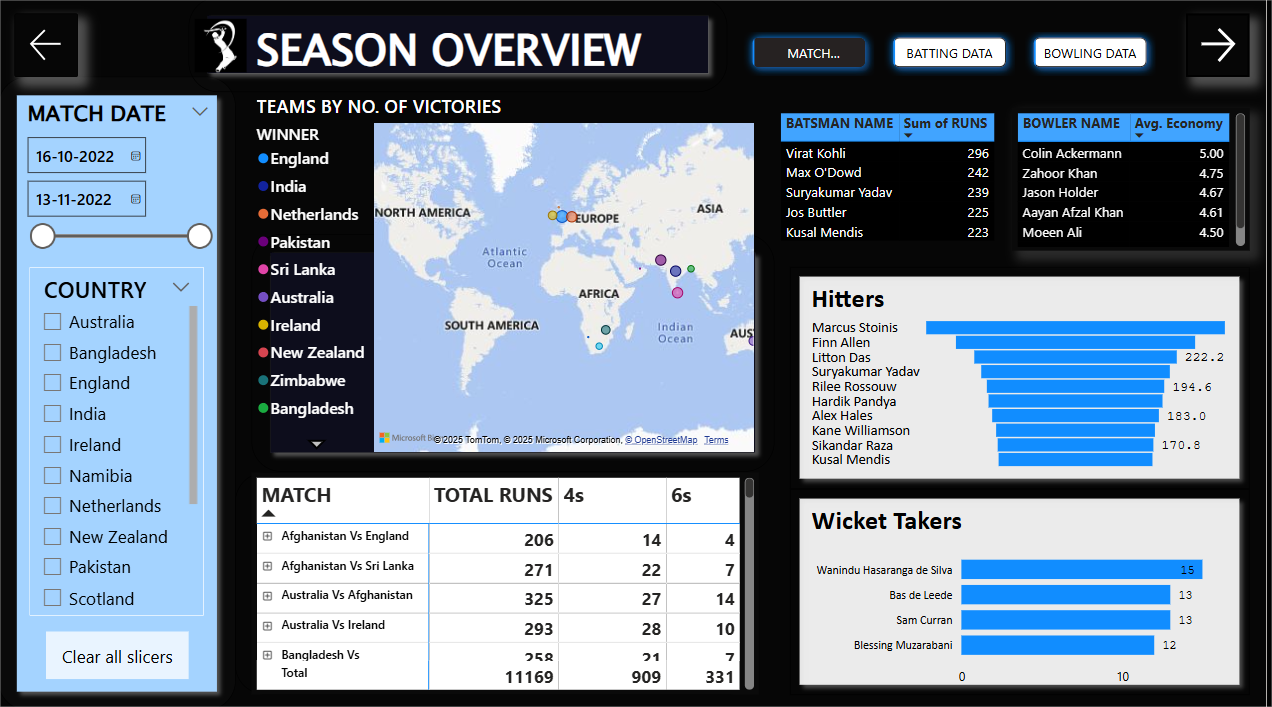

The page's visual inventory and layout, read from the dashboard file:
{"tool":"powerbi","page":{"name":"MATCH OVERVIEW","canvas":[1280,720],"ordinal":0},"visuals":[{"type":"shape","box":[0,80,240,640],"z":0},{"type":"shape","box":[192,0,544,96],"z":1000},{"type":"actionButton","box":[16,16,64,64],"z":2000},{"type":"textbox","box":[256,16,496,80],"z":3000},{"type":"actionButton","box":[1200,16,64,64],"z":4000},{"type":"shape","box":[256,240,528,240],"z":5000},{"type":"shape","box":[800,272,464,224],"z":6000},{"type":"shape","box":[240,480,528,224],"z":7000},{"type":"shape","box":[800,496,464,208],"z":8000},{"type":"actionButton","box":[48,640,144,48],"z":9000},{"type":"slicer","fields":{"Values":["match_summary.MATCH DATE"]},"box":[16.3,96.5,208.1,175.6],"z":10000},{"type":"slicer","fields":{"Values":["match_summary.WINNER"]},"box":[32,272,176,352],"z":11000},{"type":"pageNavigator","box":[752,32,416,48],"z":12000},{"type":"map","title":"TEAMS BY NO. OF VICTORIES","fields":{"Category":["match_summary.WINNER"],"Size":["match_summary.WINNER"],"Series":["match_summary.WINNER"]},"box":[255.8,96.5,511.6,367.4],"z":13000},{"type":"image","box":[192,16,64,64],"z":14000},{"type":"funnel","title":"Hitters ","fields":{"Category":["bating_summary.BATSMAN NAME"],"Y":["bating_summary.SR"]},"box":[816,288,432,192],"z":15000},{"type":"clusteredBarChart","title":"Wicket Takers","fields":{"Category":["bowling_summary.BOWLER NAME"],"Y":["bowling_summary.WICKETS"]},"box":[816,512,432,192],"z":16000},{"type":"tableEx","fields":{"Values":["bating_summary.BATSMAN NAME","bating_summary.RUNS"]},"box":[784,112,240,144],"z":17000},{"type":"tableEx","fields":{"Values":["bowling_summary.BOWLER NAME","bowling_summary.ECONOMY"]},"box":[1024,112,240,144],"z":18000},{"type":"pivotTable","fields":{"Rows":["bating_summary.MATCH","bating_summary.TEAM INNINGS","bating_summary.BATSMAN NAME"],"Values":["bating_summary.RUNS","bating_summary.4s","bating_summary.6s"]},"box":[256,480,512,224],"z":19000}]}

Visuals, with their boxes in screenshot pixels (x1, y1, x2, y2), scaled from the page's 1280x720 canvas onto the 1272x707 screenshot:
shape: crop(0, 79, 238, 706)
shape: crop(191, 0, 731, 94)
actionButton: crop(16, 16, 80, 79)
textbox: crop(254, 16, 747, 94)
actionButton: crop(1192, 16, 1256, 79)
shape: crop(254, 236, 779, 471)
shape: crop(795, 267, 1256, 487)
shape: crop(238, 471, 763, 691)
shape: crop(795, 487, 1256, 691)
actionButton: crop(48, 628, 191, 676)
slicer - match_summary.MATCH DATE: crop(16, 95, 223, 267)
slicer - match_summary.WINNER: crop(32, 267, 207, 613)
pageNavigator: crop(747, 31, 1161, 79)
"TEAMS BY NO. OF VICTORIES" map: crop(254, 95, 763, 456)
image: crop(191, 16, 254, 79)
"Hitters " funnel: crop(811, 283, 1240, 471)
"Wicket Takers" clusteredBarChart: crop(811, 503, 1240, 691)
tableEx - bating_summary.BATSMAN NAME x bating_summary.RUNS: crop(779, 110, 1018, 251)
tableEx - bowling_summary.BOWLER NAME x bowling_summary.ECONOMY: crop(1018, 110, 1256, 251)
pivotTable - bating_summary.MATCH x bating_summary.TEAM INNINGS: crop(254, 471, 763, 691)
